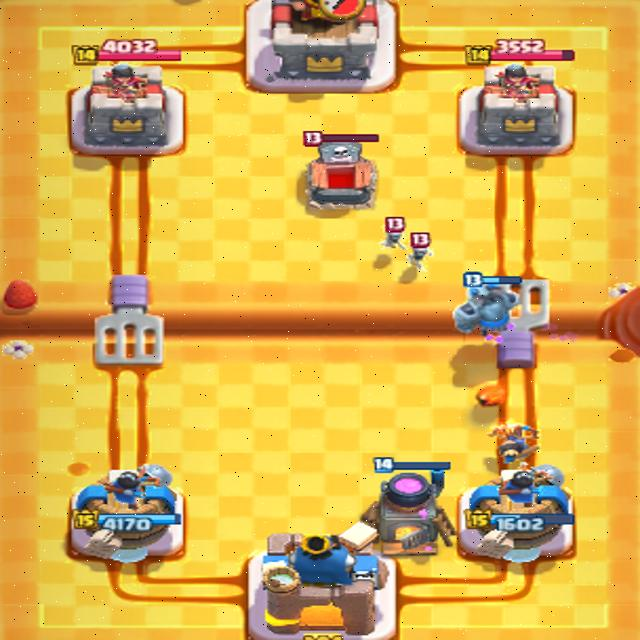ELarry: (406, 232, 433, 270), (381, 216, 408, 250)
ETomb: (304, 133, 378, 209)
EnemyPrincessTower: (71, 62, 183, 152), (479, 62, 560, 153)
OMegam: (453, 272, 522, 342)
OPrincess: (488, 421, 539, 468)
OwnKingTower: (248, 523, 393, 639)
OwnPrincessTower: (458, 466, 574, 562), (72, 477, 183, 562)
